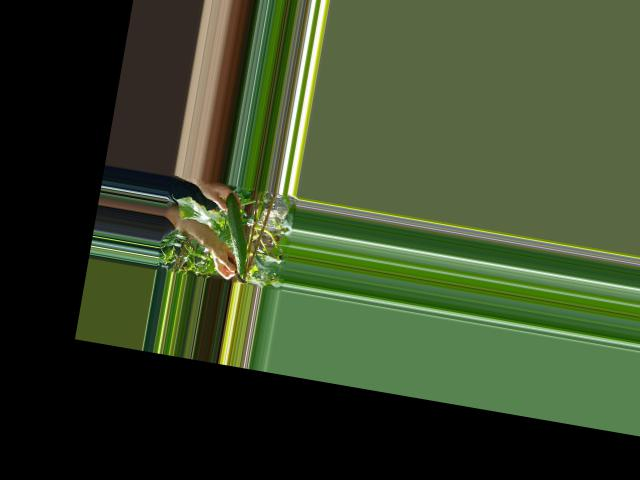cucumber: (214, 192, 257, 274)
